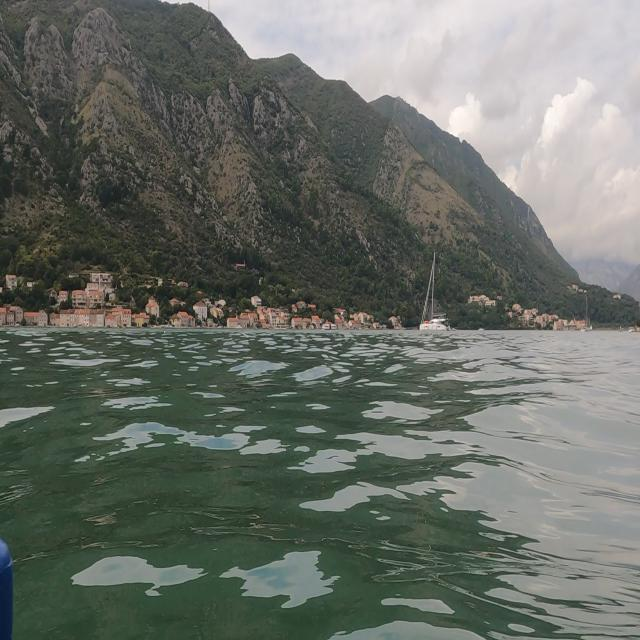boat: (417, 246, 451, 335)
